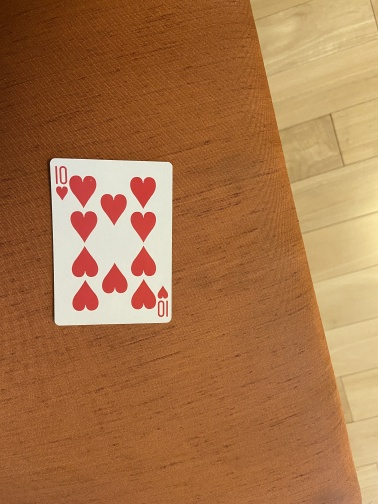ten: (48, 157, 174, 328)
